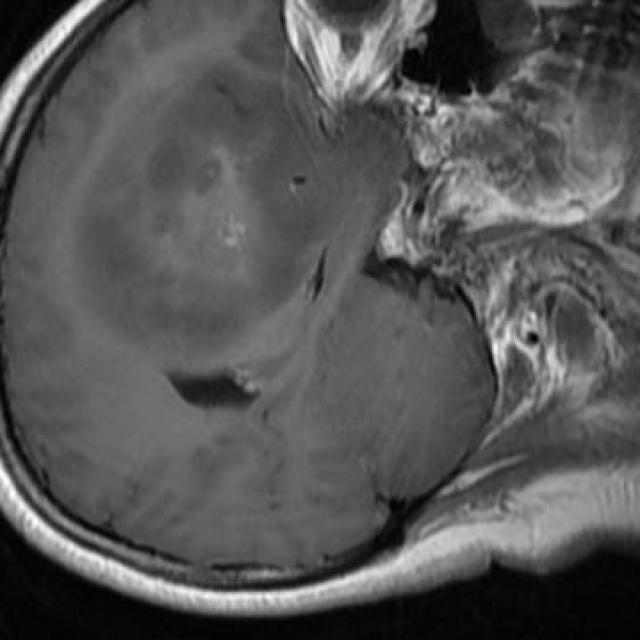glioma: (87, 32, 405, 335)
